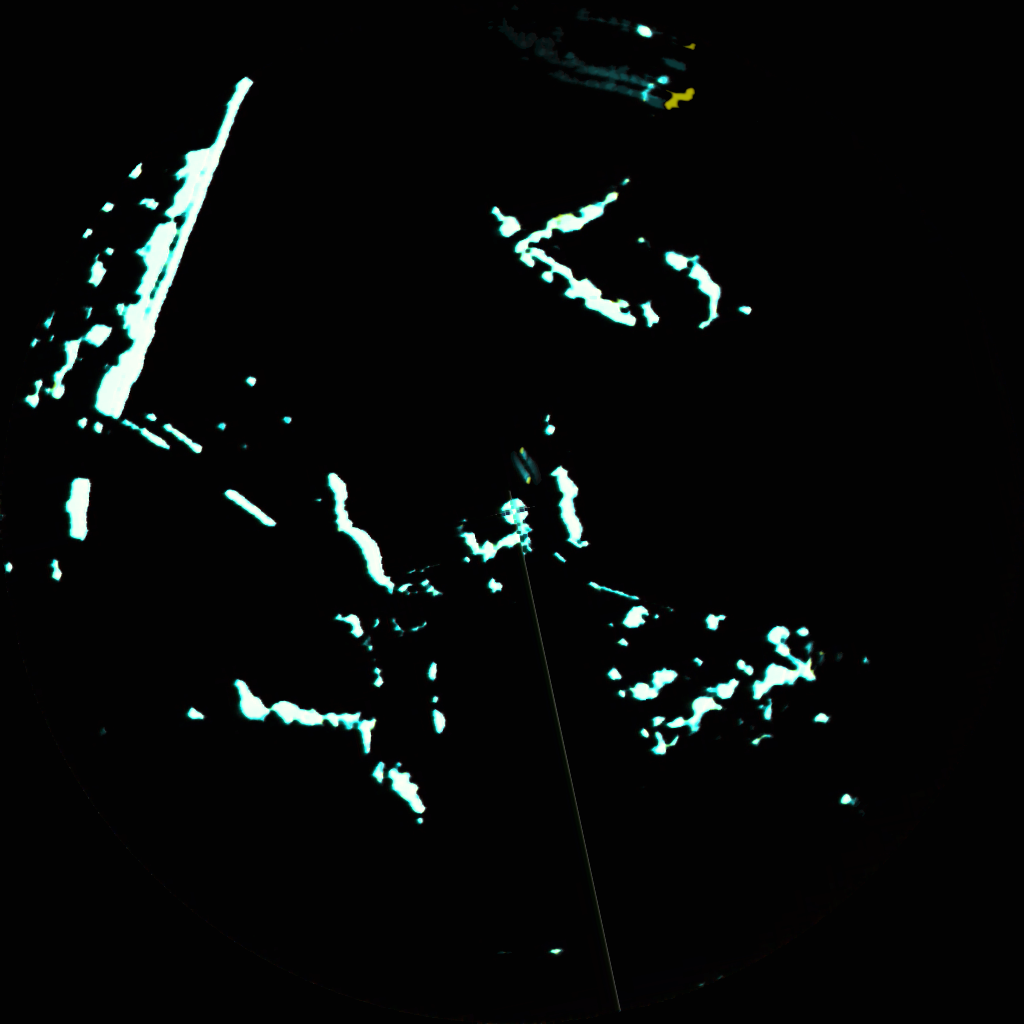B: (512, 461, 534, 481), (521, 451, 540, 467)
